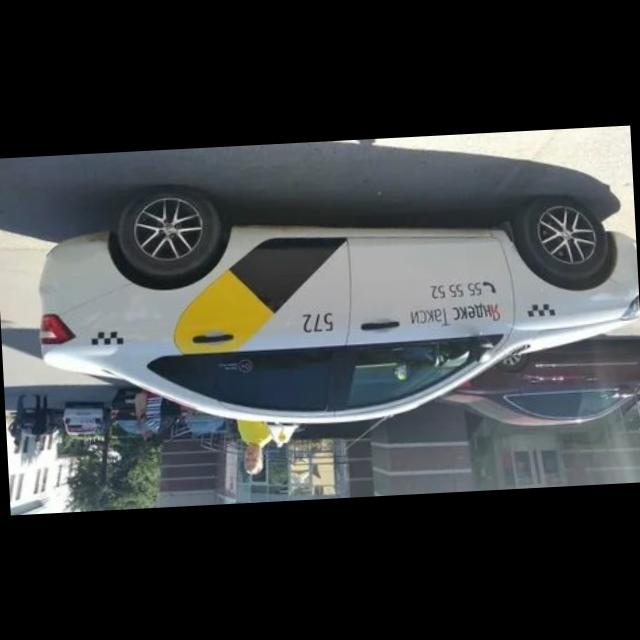taxi: (31, 162, 640, 449)
